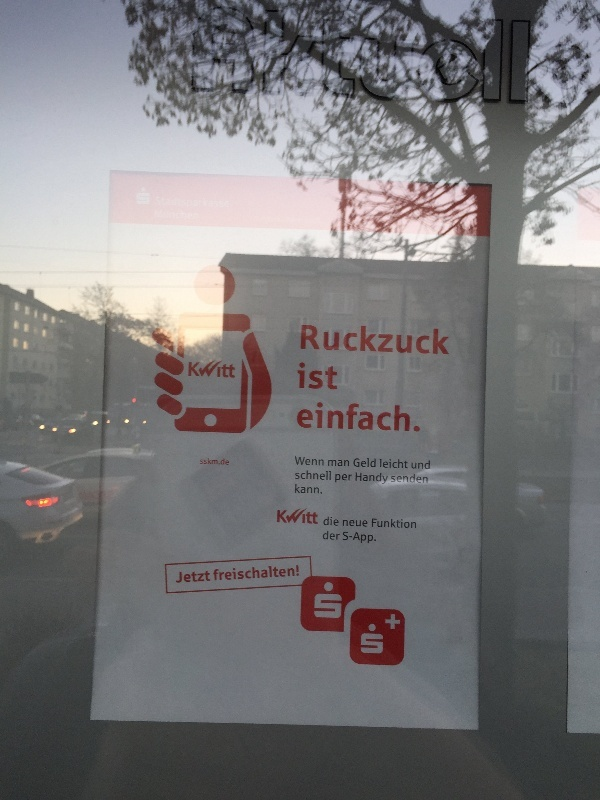text: (305, 323, 320, 358), (321, 323, 336, 358), (337, 323, 352, 358), (353, 323, 368, 358), (369, 323, 384, 358), (385, 323, 400, 358), (401, 323, 416, 358), (417, 323, 432, 358), (433, 323, 448, 358), (305, 402, 320, 434), (321, 402, 336, 434), (337, 402, 352, 434), (353, 402, 368, 434), (369, 402, 384, 434), (385, 402, 400, 434), (401, 402, 416, 434), (305, 362, 320, 392), (321, 362, 336, 392), (321, 592, 336, 620), (369, 633, 384, 655), (193, 360, 208, 380), (209, 360, 224, 380), (225, 564, 240, 583), (241, 564, 256, 583), (257, 564, 272, 583), (273, 564, 288, 583), (385, 612, 400, 631), (289, 507, 304, 525), (305, 507, 319, 525), (177, 570, 192, 585), (193, 570, 208, 585), (297, 402, 304, 434), (225, 360, 236, 380), (369, 472, 384, 486), (353, 531, 368, 545), (277, 507, 288, 525), (214, 564, 224, 583), (289, 564, 299, 583), (298, 362, 304, 392), (385, 458, 400, 470), (305, 469, 320, 481), (401, 472, 416, 484), (305, 483, 320, 495), (337, 473, 353, 484), (356, 472, 368, 486), (305, 456, 320, 467), (353, 458, 368, 469), (385, 518, 400, 529), (401, 518, 416, 529), (417, 458, 430, 470), (361, 633, 368, 655), (353, 519, 368, 529), (324, 515, 336, 527), (315, 592, 320, 620), (337, 592, 342, 620), (209, 457, 224, 466), (417, 472, 428, 484), (372, 518, 384, 529), (417, 402, 421, 434), (343, 531, 352, 545), (321, 469, 331, 481), (324, 531, 336, 541), (369, 531, 377, 545), (391, 472, 400, 484), (295, 483, 304, 495), (301, 323, 304, 358), (337, 460, 350, 468), (295, 456, 304, 467), (296, 469, 304, 481), (343, 519, 352, 529), (401, 458, 408, 470), (369, 458, 376, 469), (200, 457, 208, 466), (385, 472, 390, 486), (328, 460, 336, 468), (189, 360, 192, 380), (337, 531, 342, 541), (380, 458, 384, 470), (412, 458, 416, 470), (225, 457, 229, 466), (449, 323, 450, 358), (321, 456, 324, 467), (337, 362, 338, 392), (209, 570, 211, 585), (321, 483, 323, 495), (337, 515, 339, 527), (335, 473, 336, 484)
